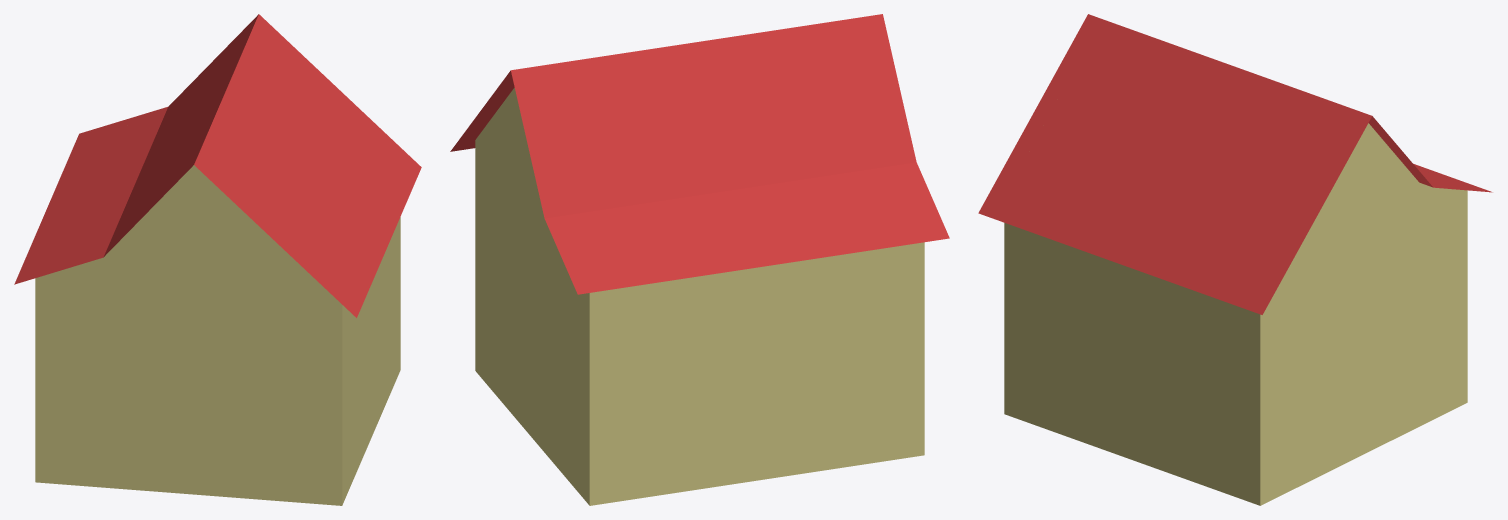
The picture shows the model from 3 angles, left to right: view 1: azimuth 30°, elevation 25°; view 2: azimuth 150°, elevation 25°; view 3: azimuth 270°, elevation 25°; orthographic projection. The views are drawn at different scales.
Size of the model in its own units: 20.66 by 20.73 by 15.37.
